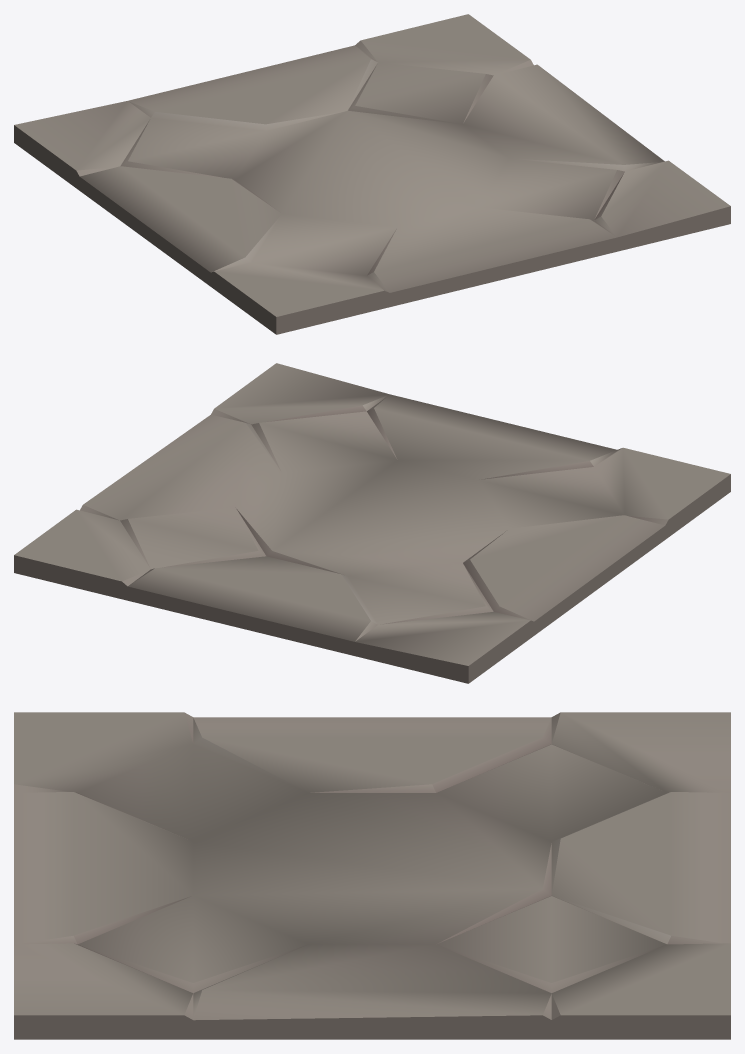
The model's file is floor_tile_large-mid.glb.
3 renders of one model, top to bottom at view 1: azimuth 30°, elevation 25°; view 2: azimuth 150°, elevation 25°; view 3: azimuth 270°, elevation 25°, orthographic. The views are drawn at different scales.
Parts seen in each view (by area): view 1: floor_tile_large; view 2: floor_tile_large; view 3: floor_tile_large.
Part boxes in pixels (bbox=[...]): floor_tile_large: bbox=[14, 14, 730, 334]; floor_tile_large: bbox=[14, 363, 730, 683]; floor_tile_large: bbox=[14, 712, 730, 1039].
Bounding box in the file's own units: 4 × 0.15 × 4.
1 material, 1 textured.
